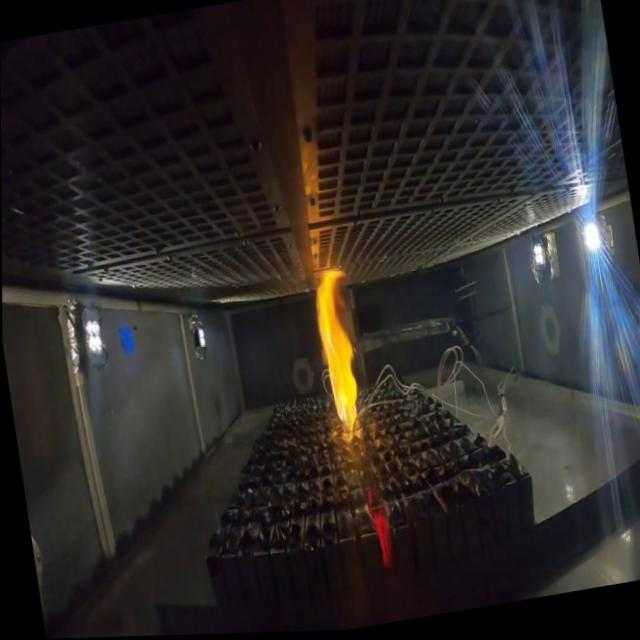fire: (308, 259, 373, 447)
